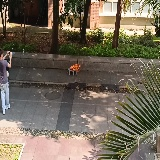fire: (70, 63, 80, 72)
